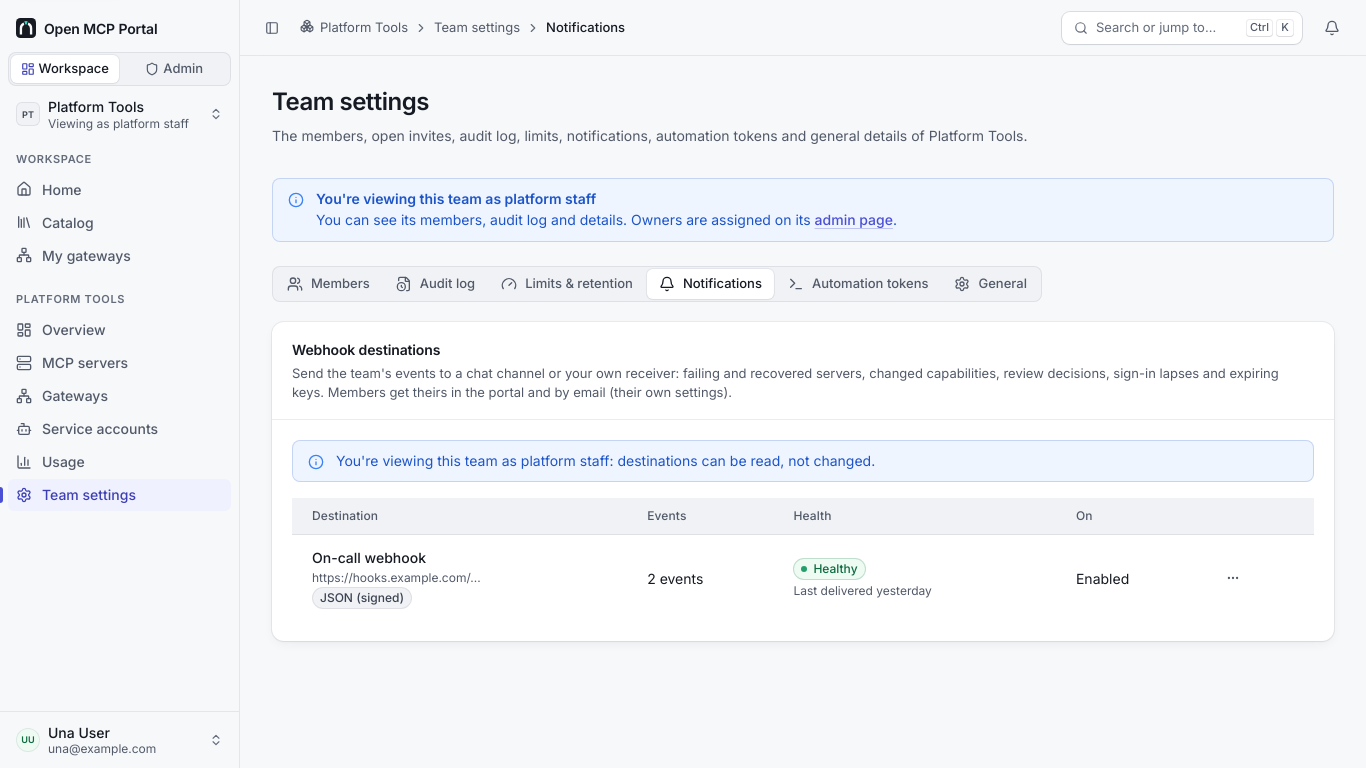
Test case: Team settings › Notifications › is read-only for platform staff who aren't on the team: the list and the log, nothing that changes
Expected: the text "You're viewing this team as platform staff: destinations can be read, not changed." is shown, [336,452,875,469]
Click the button named "Actions for On-call webhook".
click(1233, 578)  # box [1217,562,1249,594]
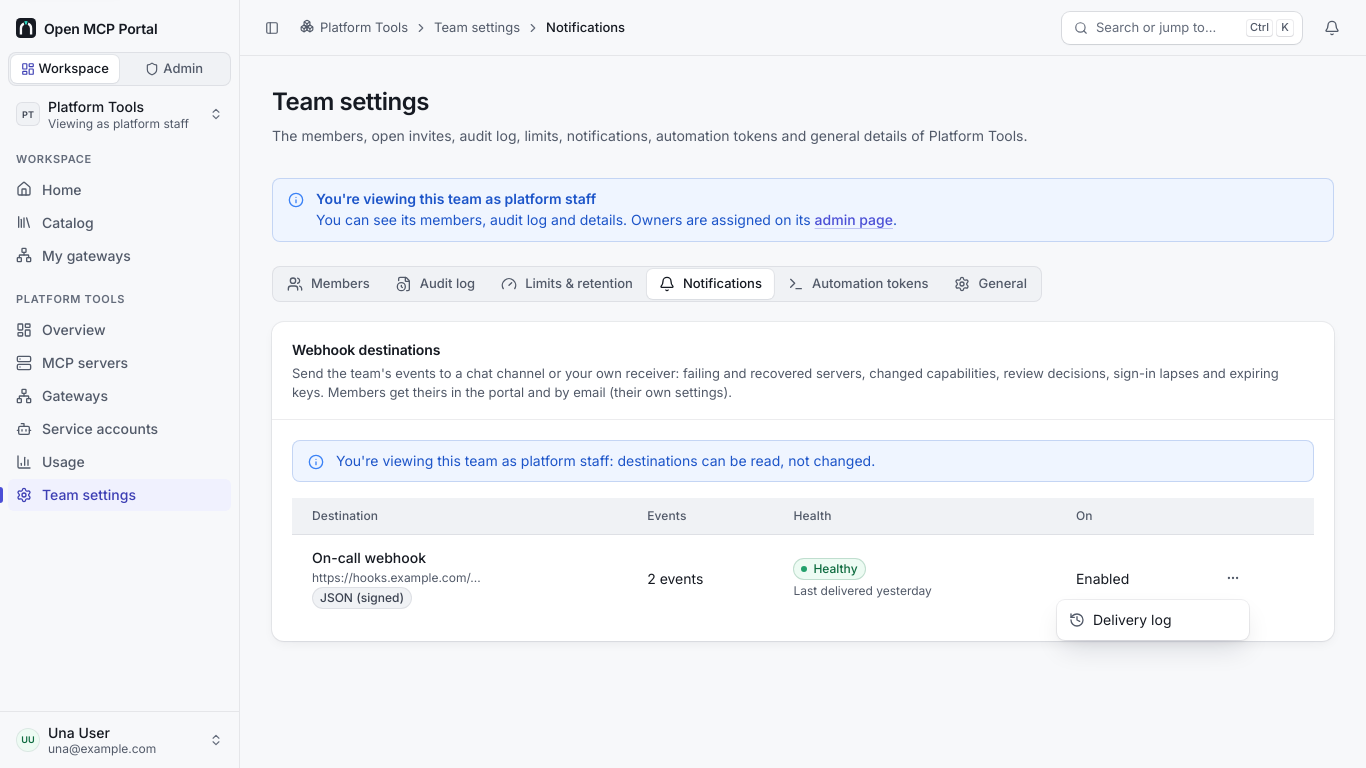
Expected: the menu items read "Delivery log", in this order, [1069,611,1172,628]
